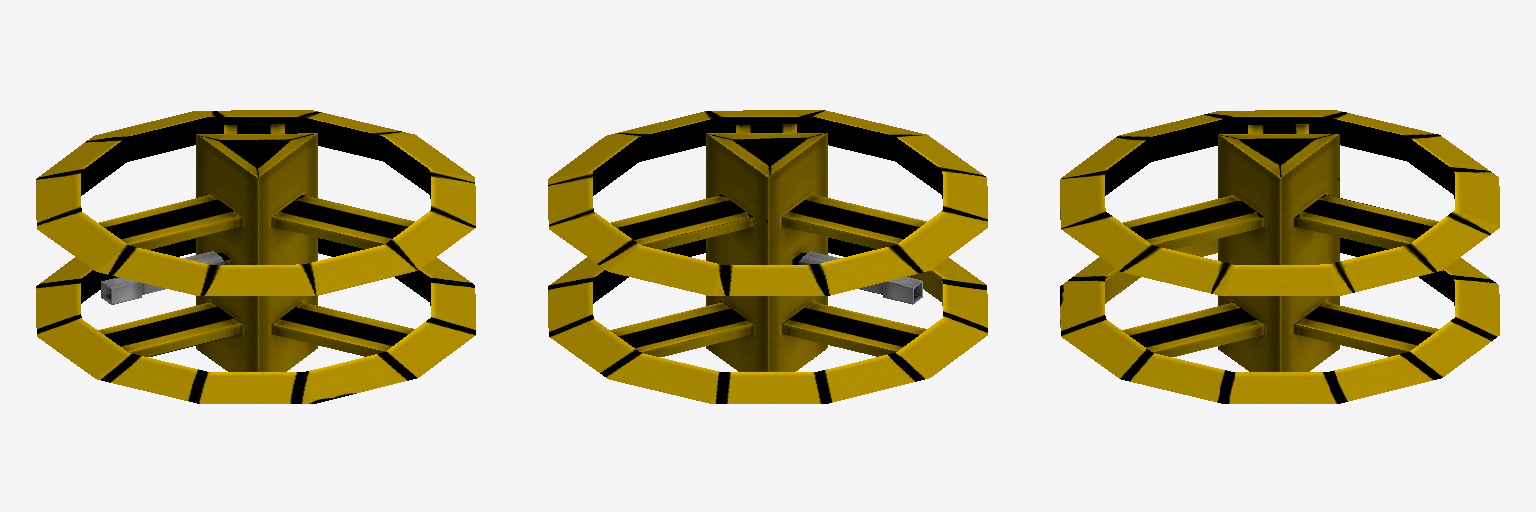
3 renders of one model, left to right at view 1: azimuth 30°, elevation 25°; view 2: azimuth 150°, elevation 25°; view 3: azimuth 270°, elevation 25°, orthographic.
Visible parts, largest first — view 1: Box003; view 2: Box003; view 3: Box003.
Part boxes in pixels (bbox=[...]): Box003: bbox=[36, 110, 475, 403]; Box003: bbox=[548, 110, 987, 403]; Box003: bbox=[1060, 110, 1499, 403].
Bounding box in the file's own units: 5.55 × 2.99 × 5.55.
1 materials, 1 textured.